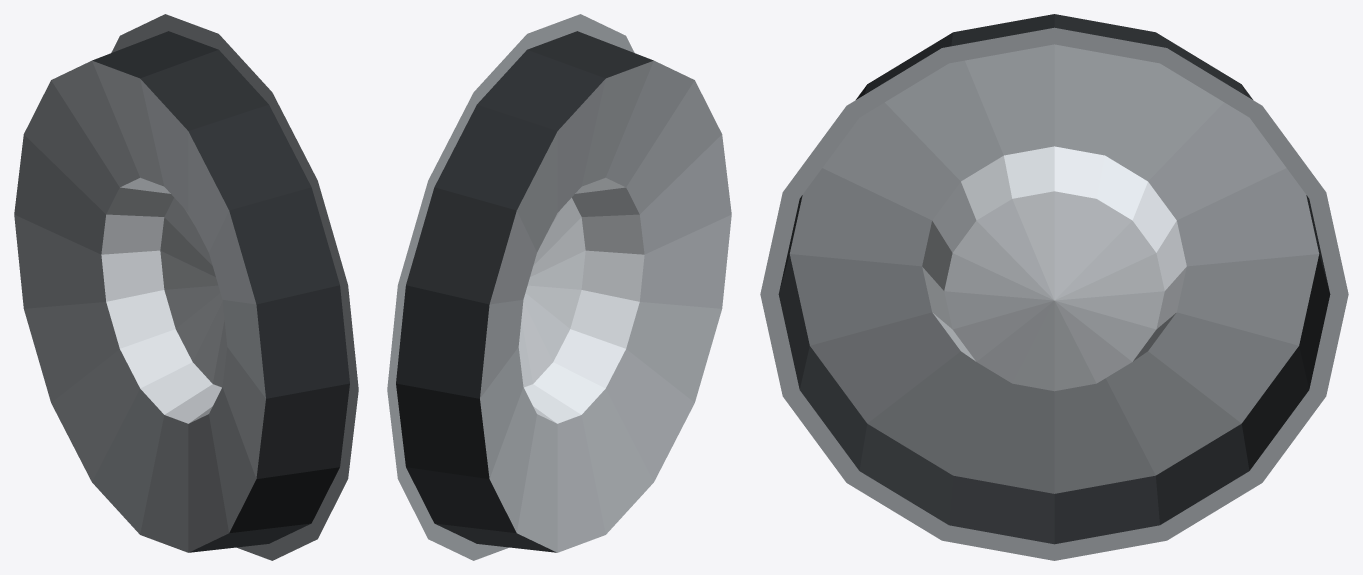
Rendered from rim_05_dog_dish.obj.
3 renders of one model, left to right at view 1: azimuth 30°, elevation 25°; view 2: azimuth 150°, elevation 25°; view 3: azimuth 270°, elevation 25°, orthographic. The views are drawn at different scales.
Parts seen in each view (by area): view 1: rim_05_dog_dish; view 2: rim_05_dog_dish; view 3: rim_05_dog_dish.
Part boxes in pixels (box(x1,y1,x2,y2)): rim_05_dog_dish: box(14, 14, 358, 560); rim_05_dog_dish: box(387, 14, 731, 560); rim_05_dog_dish: box(760, 14, 1348, 560).
Size of the model in its own units: 0.0937 by 0.5 by 0.5.
